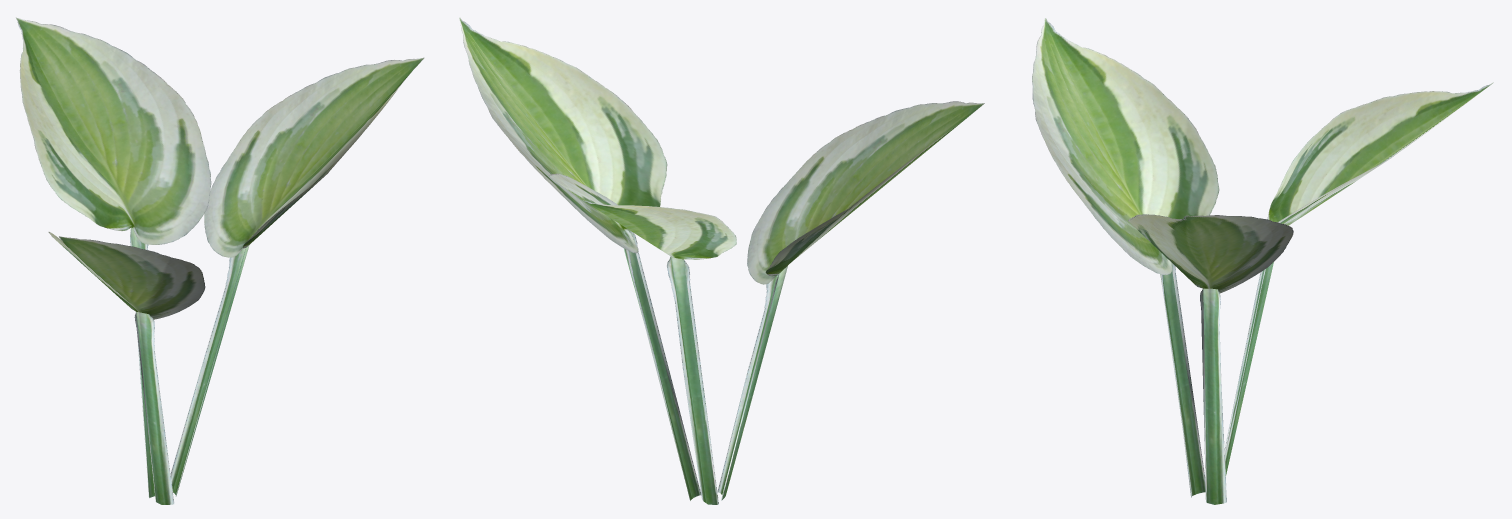
The model's file is plant_small_wg_02S.fbx.
3 renders of one model, left to right at view 1: azimuth 30°, elevation 25°; view 2: azimuth 150°, elevation 25°; view 3: azimuth 270°, elevation 25°, orthographic. The views are drawn at different scales.
Visible parts, largest first — view 1: plant_small_wg_02S; view 2: plant_small_wg_02S; view 3: plant_small_wg_02S.
Boxes of the visible parts, box(x1,y1,x2,y2) form: plant_small_wg_02S: box(16, 17, 424, 504); plant_small_wg_02S: box(459, 17, 984, 504); plant_small_wg_02S: box(1032, 18, 1493, 504).
Bounding box in the file's own units: 54.94 × 46.79 × 49.34.
